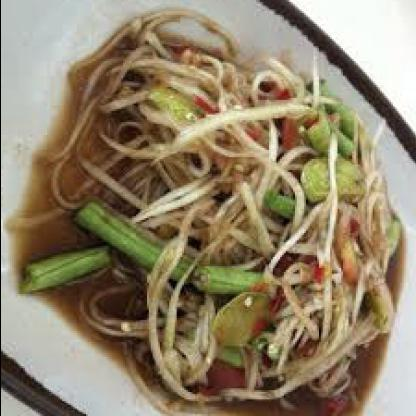Papaya Salad: (0, 3, 416, 415)
